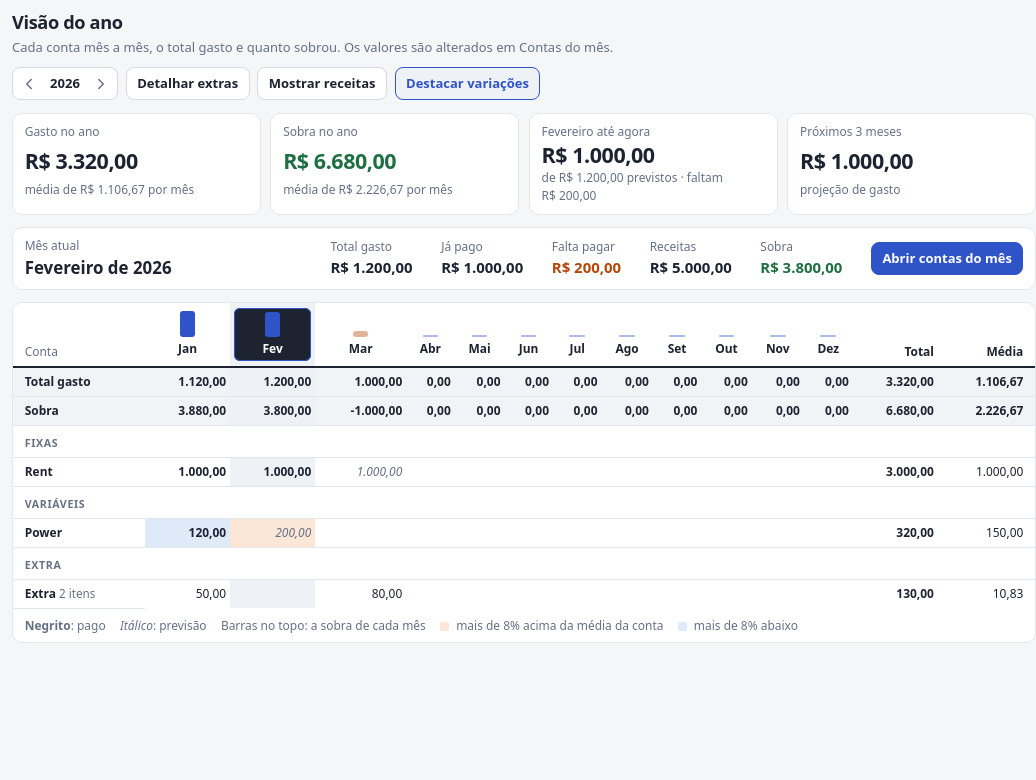
YearPage › details the current month first and any other month when it is clicked
Expected: the element named "Contas do ano" is shown, [12,302,1035,643]
Expected: the text "Mês atual" is shown, [25,237,79,254]
Click the button with aria-label "Março" at (361, 334), box [319,308,402,361]
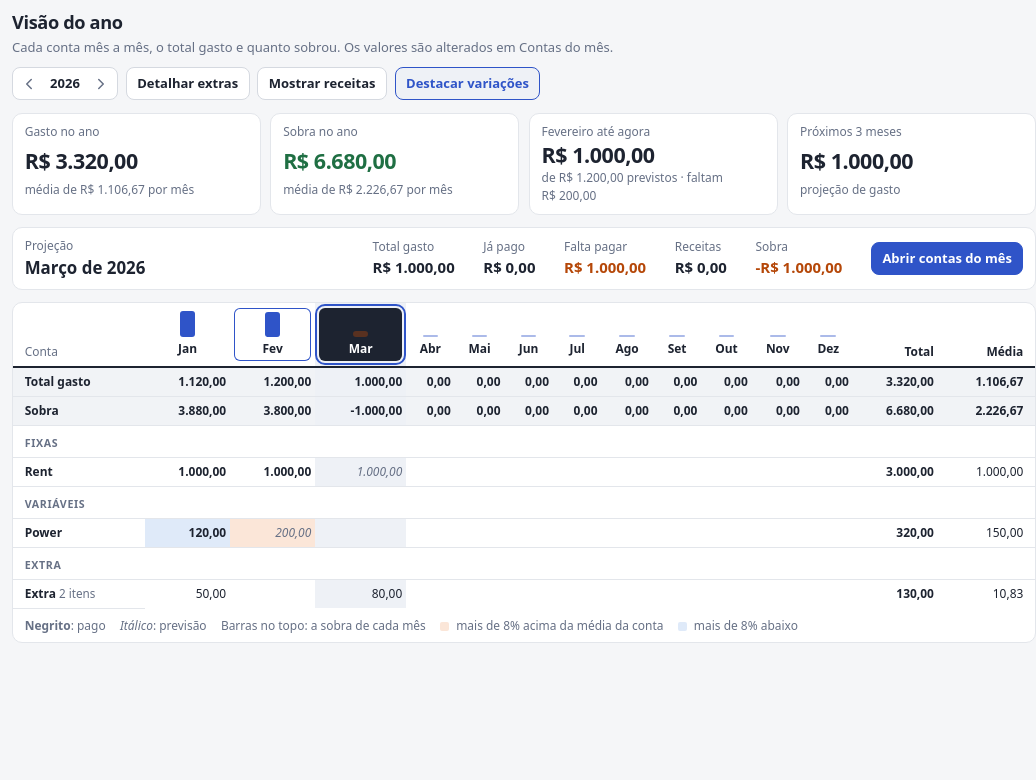
Result: the text "Projeção" is shown at [25,237,73,254]
Result: the text "-R$ 1.000,00" is shown at [756,256,842,279]
